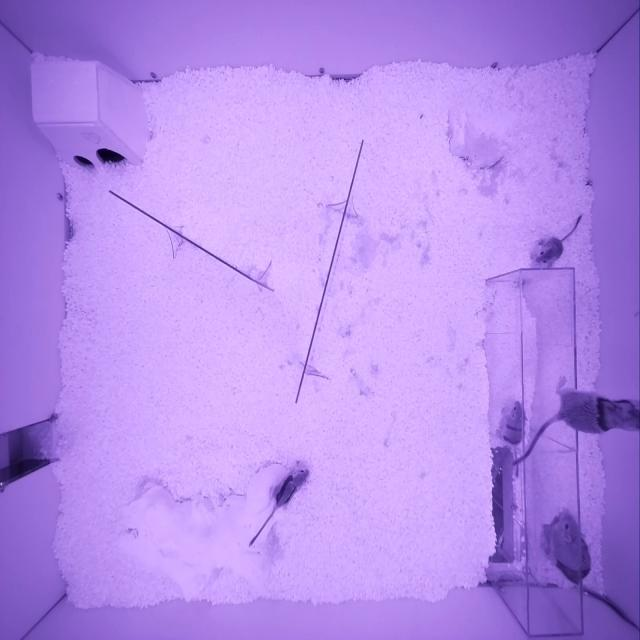adult_back: (549, 509, 591, 586)
adult_front: (556, 376, 640, 434)
pup_fluffy: (535, 238, 563, 265)
pup_h_stripe: (500, 401, 530, 445)
pup_v_stripe: (269, 468, 311, 510)
